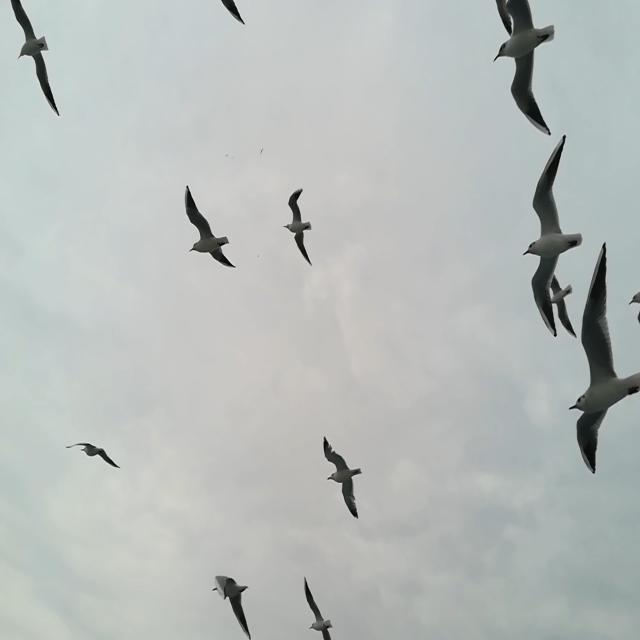bird: (569, 240, 640, 475), (521, 133, 583, 340), (494, 0, 556, 138), (10, 0, 60, 119), (184, 184, 237, 268), (322, 437, 363, 518), (212, 574, 253, 638), (283, 188, 313, 267), (546, 270, 578, 338), (303, 576, 334, 640), (66, 440, 120, 469), (495, 0, 514, 38), (220, 0, 246, 27), (626, 290, 640, 326), (225, 153, 234, 160), (259, 147, 264, 156), (257, 253, 260, 259)
